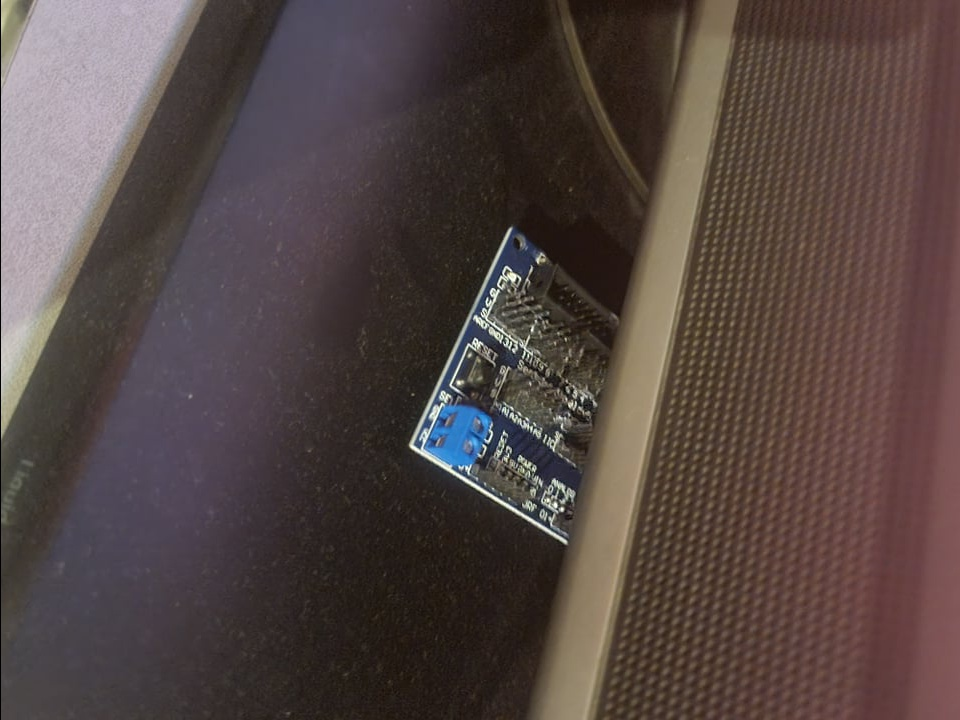5V EXPANSION: (407, 228, 640, 549)
